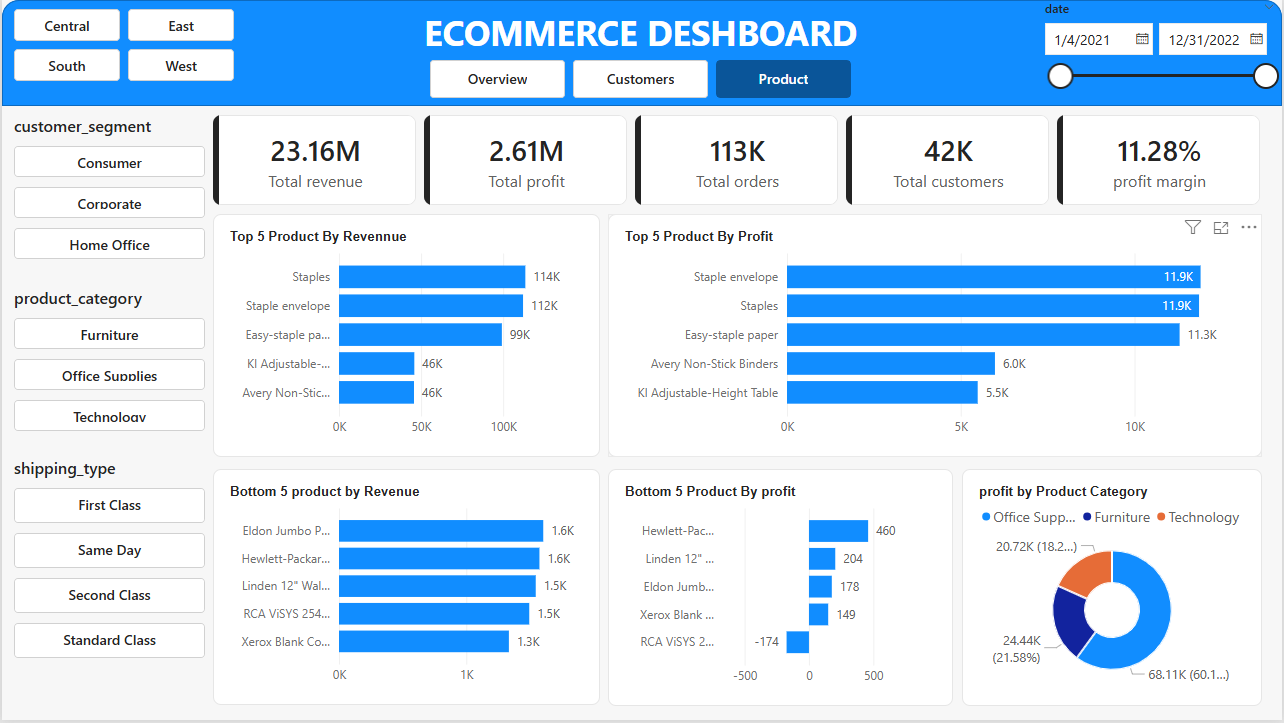

What the dashboard file says about the page in this screenshot:
{"tool":"powerbi","page":{"name":"Product","canvas":[1280,720],"ordinal":2},"visuals":[{"type":"shape","box":[0,0,1280,105.6],"z":0},{"type":"cardVisual","fields":{"Data":["ecommerce_data.Total revenue","ecommerce_data.Total profit","ecommerce_data.Total orders","ecommerce_data.Total customers","ecommerce_data.profit margin"]},"box":[211,115,1049,90],"z":1000},{"type":"advancedSlicerVisual","fields":{"Values":["ecommerce_data.customer_region"]},"box":[11.7,9.4,220.4,72.7],"z":2000},{"type":"advancedSlicerVisual","fields":{"Values":["ecommerce_data.customer_segment"]},"box":[11.7,114.9,191.1,145.3],"z":4000},{"type":"advancedSlicerVisual","fields":{"Values":["ecommerce_data.product_category"]},"box":[11.7,287.2,191.1,145.3],"z":5000},{"type":"advancedSlicerVisual","fields":{"Values":["ecommerce_data.shipping_type"]},"box":[11.7,457.1,191.1,201.6],"z":6000},{"type":"clusteredBarChart","title":"Top 5 Product By Revennue","fields":{"Category":["ecommerce_data.product_name"],"Y":["ecommerce_data.Total revenue"]},"box":[211,214,387,243],"z":7000},{"type":"clusteredBarChart","title":"Bottom 5 product by Revenue","fields":{"Category":["ecommerce_data.product_name"],"Y":["ecommerce_data.Total revenue"]},"box":[211,469,387,236],"z":8000},{"type":"clusteredBarChart","title":"Top 5 Product By Profit","fields":{"Category":["ecommerce_data.product_name"],"Y":["ecommerce_data.Total profit"]},"box":[606,214,654,243],"z":9000},{"type":"clusteredBarChart","title":"Bottom 5 Product By profit ","fields":{"Category":["ecommerce_data.product_name"],"Y":["ecommerce_data.Total profit"]},"box":[605.6,468.9,345.6,236.7],"z":10000},{"type":"donutChart","title":"profit by Product Category","fields":{"Category":["ecommerce_data.product_category"],"Y":["CountNonNull(ecommerce_data.Profit Validation)"]},"box":[960,468.9,300,236.7],"z":11000},{"type":"pageNavigator","box":[427.8,60,423.3,37.8],"z":12000},{"type":"textbox","title":"ECOMMERCE DESHBOARD","box":[422.2,8.9,461.1,70],"z":13000},{"type":"slicer","fields":{"Values":["calander.date"]},"box":[1035,0,245,97.3],"z":13001}]}

Visuals, with their boxes in screenshot pixels (x1, y1, x2, y2), scaled from the page's 1280x720 canvas onto the 1284x723 screenshot:
shape: {"x1": 0, "y1": 0, "x2": 1283, "y2": 106}
cardVisual - ecommerce_data.Total revenue x ecommerce_data.Total profit: {"x1": 212, "y1": 115, "x2": 1264, "y2": 206}
advancedSlicerVisual - ecommerce_data.customer_region: {"x1": 12, "y1": 9, "x2": 233, "y2": 82}
advancedSlicerVisual - ecommerce_data.customer_segment: {"x1": 12, "y1": 115, "x2": 203, "y2": 261}
advancedSlicerVisual - ecommerce_data.product_category: {"x1": 12, "y1": 288, "x2": 203, "y2": 434}
advancedSlicerVisual - ecommerce_data.shipping_type: {"x1": 12, "y1": 459, "x2": 203, "y2": 661}
"Top 5 Product By Revennue" clusteredBarChart: {"x1": 212, "y1": 215, "x2": 600, "y2": 459}
"Bottom 5 product by Revenue" clusteredBarChart: {"x1": 212, "y1": 471, "x2": 600, "y2": 708}
"Top 5 Product By Profit" clusteredBarChart: {"x1": 608, "y1": 215, "x2": 1264, "y2": 459}
"Bottom 5 Product By profit " clusteredBarChart: {"x1": 607, "y1": 471, "x2": 954, "y2": 709}
"profit by Product Category" donutChart: {"x1": 963, "y1": 471, "x2": 1264, "y2": 709}
pageNavigator: {"x1": 429, "y1": 60, "x2": 854, "y2": 98}
"ECOMMERCE DESHBOARD" textbox: {"x1": 424, "y1": 9, "x2": 886, "y2": 79}
slicer - calander.date: {"x1": 1038, "y1": 0, "x2": 1283, "y2": 98}
